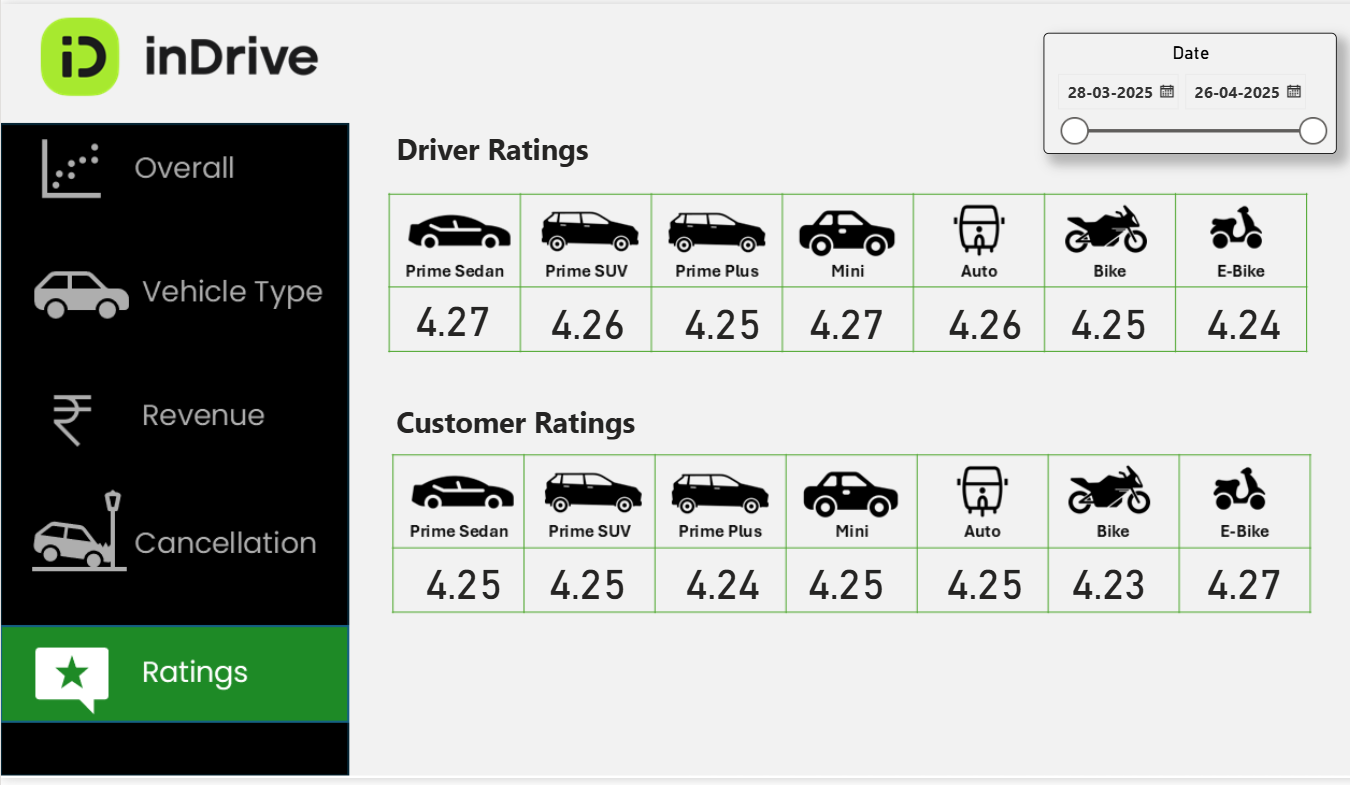

The page's visual inventory and layout, read from the dashboard file:
{"tool":"powerbi","page":{"name":"Ratings","canvas":[1280,720],"ordinal":4},"visuals":[{"type":"actionButton","box":[0,223.5,323.5,92.9],"z":0},{"type":"actionButton","box":[0,342.4,323.5,92.9],"z":1000},{"type":"actionButton","box":[0,455.3,323.5,92.9],"z":2000},{"type":"actionButton","box":[0,577.6,323.5,92.9],"z":3000},{"type":"actionButton","box":[0,110.6,323.5,92.9],"z":4000},{"type":"card","fields":{"Values":["Avg(Delhi_CAB_booking_data_final.Driver Ratings)"]},"box":[362.8,267.4,115.1,48.8],"z":5000},{"type":"card","fields":{"Values":["Avg(Delhi_CAB_booking_data_final.Driver Ratings)"]},"box":[488.5,270.3,115.3,49.4],"z":6000},{"type":"card","fields":{"Values":["Avg(Delhi_CAB_booking_data_final.Driver Ratings)"]},"box":[613.4,270.3,115.3,49.4],"z":7000},{"type":"card","fields":{"Values":["Avg(Delhi_CAB_booking_data_final.Driver Ratings)"]},"box":[728.6,270.3,115.3,49.4],"z":8000},{"type":"card","fields":{"Values":["Avg(Delhi_CAB_booking_data_final.Driver Ratings)"]},"box":[857.6,270.3,115.3,49.4],"z":9000},{"type":"card","fields":{"Values":["Avg(Delhi_CAB_booking_data_final.Driver Ratings)"]},"box":[972.9,270.3,115.3,49.4],"z":10000},{"type":"card","fields":{"Values":["Avg(Delhi_CAB_booking_data_final.Driver Ratings)"]},"box":[1099.1,270.3,115.3,49.4],"z":11000},{"type":"card","fields":{"Values":["Avg(Delhi_CAB_booking_data_final.Customer Rating)"]},"box":[373.2,511.8,115.3,49.4],"z":12000},{"type":"textbox","box":[362.3,111.1,218.2,45.3],"z":13000},{"type":"textbox","box":[362.3,365,264.8,45.3],"z":14000},{"type":"card","fields":{"Values":["Avg(Delhi_CAB_booking_data_final.Customer Rating)"]},"box":[488.5,511.8,115.3,49.4],"z":15000},{"type":"card","fields":{"Values":["Avg(Delhi_CAB_booking_data_final.Customer Rating)"]},"box":[613.4,511.8,115.3,49.4],"z":16000},{"type":"card","fields":{"Values":["Avg(Delhi_CAB_booking_data_final.Customer Rating)"]},"box":[728.6,511.8,115.3,49.4],"z":17000},{"type":"card","fields":{"Values":["Avg(Delhi_CAB_booking_data_final.Customer Rating)"]},"box":[857.6,511.8,115.3,49.4],"z":18000},{"type":"card","fields":{"Values":["Avg(Delhi_CAB_booking_data_final.Customer Rating)"]},"box":[972.9,511.8,115.3,49.4],"z":19000},{"type":"card","fields":{"Values":["Avg(Delhi_CAB_booking_data_final.Customer Rating)"]},"box":[1099.1,511.8,115.3,49.4],"z":20000},{"type":"slicer","title":"Date","fields":{"Values":["Delhi_CAB_booking_data_final.Date"]},"box":[970,27.1,272.9,112.9],"z":21000}]}

Visuals, with their boxes on the page's 1280x720 design canvas (x1, y1, x2, y2). These are canvas units, not pixel positions in the 1350x785 screenshot, which may show the page scaled, cropped or inside an application window:
actionButton: <bbox>0, 224, 324, 316</bbox>
actionButton: <bbox>0, 342, 324, 435</bbox>
actionButton: <bbox>0, 455, 324, 548</bbox>
actionButton: <bbox>0, 578, 324, 670</bbox>
actionButton: <bbox>0, 111, 324, 204</bbox>
card - Avg(Delhi_CAB_booking_data_final.Driver Ratings): <bbox>363, 267, 478, 316</bbox>
card - Avg(Delhi_CAB_booking_data_final.Driver Ratings): <bbox>488, 270, 604, 320</bbox>
card - Avg(Delhi_CAB_booking_data_final.Driver Ratings): <bbox>613, 270, 729, 320</bbox>
card - Avg(Delhi_CAB_booking_data_final.Driver Ratings): <bbox>729, 270, 844, 320</bbox>
card - Avg(Delhi_CAB_booking_data_final.Driver Ratings): <bbox>858, 270, 973, 320</bbox>
card - Avg(Delhi_CAB_booking_data_final.Driver Ratings): <bbox>973, 270, 1088, 320</bbox>
card - Avg(Delhi_CAB_booking_data_final.Driver Ratings): <bbox>1099, 270, 1214, 320</bbox>
card - Avg(Delhi_CAB_booking_data_final.Customer Rating): <bbox>373, 512, 488, 561</bbox>
textbox: <bbox>362, 111, 580, 156</bbox>
textbox: <bbox>362, 365, 627, 410</bbox>
card - Avg(Delhi_CAB_booking_data_final.Customer Rating): <bbox>488, 512, 604, 561</bbox>
card - Avg(Delhi_CAB_booking_data_final.Customer Rating): <bbox>613, 512, 729, 561</bbox>
card - Avg(Delhi_CAB_booking_data_final.Customer Rating): <bbox>729, 512, 844, 561</bbox>
card - Avg(Delhi_CAB_booking_data_final.Customer Rating): <bbox>858, 512, 973, 561</bbox>
card - Avg(Delhi_CAB_booking_data_final.Customer Rating): <bbox>973, 512, 1088, 561</bbox>
card - Avg(Delhi_CAB_booking_data_final.Customer Rating): <bbox>1099, 512, 1214, 561</bbox>
"Date" slicer: <bbox>970, 27, 1243, 140</bbox>
